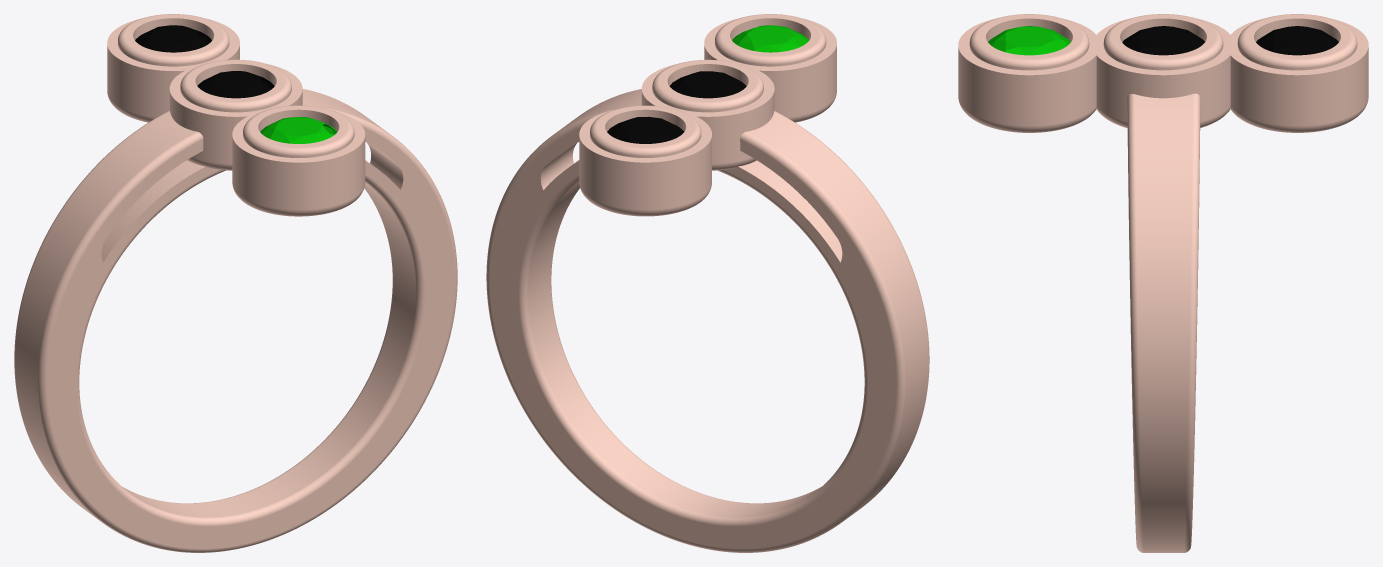
Rendered from ring.glb.
3 renders of one model, left to right at view 1: azimuth 30°, elevation 25°; view 2: azimuth 150°, elevation 25°; view 3: azimuth 270°, elevation 25°, orthographic. The views are drawn at different scales.
Visible parts, largest first — view 1: 오피스코어반지(2AA7DB9A-4CB2-4F30-BDC1-481C30C1CEF7), 오피스코어반지(EE124A84-739E-4F3C-801E-71440F5682EC), 오피스코어반지(6A5E830C-42E2-458B-BDE9-2AE1DE75D6CA), 오피스코어반지(F76FBCC6-D6EB-48FC-8B54-50B748D439D3), 오피스코어반지(9B46DE46-B141-44AE-886B-247A532996FB), 오피스코어반지(665029A8-155E-4D0A-90D2-BA9750BD5ACD), 오피스코어반지(1B3C987A-93AA-44F1-8126-E3DEDE83E04D), 화이트스톤(0B7339AB-1098-4E23-9975-40E428453A56), 화이트스톤(1F1E1353-6E0F-4F7B-8FC4-DBA0D6A761D5), 레이어 02(67A01265-0AE2-4550-BDA8-7D3291A012AF), 오피스코어반지(43A235EA-FD79-4244-A20D-EDCFB2B63874); view 2: 오피스코어반지(2AA7DB9A-4CB2-4F30-BDC1-481C30C1CEF7), 오피스코어반지(6A5E830C-42E2-458B-BDE9-2AE1DE75D6CA), 오피스코어반지(EE124A84-739E-4F3C-801E-71440F5682EC), 오피스코어반지(F76FBCC6-D6EB-48FC-8B54-50B748D439D3), 오피스코어반지(1B3C987A-93AA-44F1-8126-E3DEDE83E04D), 오피스코어반지(9B46DE46-B141-44AE-886B-247A532996FB), 오피스코어반지(665029A8-155E-4D0A-90D2-BA9750BD5ACD), 레이어 02(67A01265-0AE2-4550-BDA8-7D3291A012AF), 화이트스톤(1F1E1353-6E0F-4F7B-8FC4-DBA0D6A761D5), 화이트스톤(0B7339AB-1098-4E23-9975-40E428453A56), 오피스코어반지(27804FED-47F8-4C6D-BA63-A63F5332597B); view 3: 오피스코어반지(2AA7DB9A-4CB2-4F30-BDC1-481C30C1CEF7), 오피스코어반지(EE124A84-739E-4F3C-801E-71440F5682EC), 오피스코어반지(6A5E830C-42E2-458B-BDE9-2AE1DE75D6CA), 오피스코어반지(F76FBCC6-D6EB-48FC-8B54-50B748D439D3), 오피스코어반지(665029A8-155E-4D0A-90D2-BA9750BD5ACD), 오피스코어반지(9B46DE46-B141-44AE-886B-247A532996FB), 오피스코어반지(1B3C987A-93AA-44F1-8126-E3DEDE83E04D), 화이트스톤(1F1E1353-6E0F-4F7B-8FC4-DBA0D6A761D5), 화이트스톤(0B7339AB-1098-4E23-9975-40E428453A56), 레이어 02(67A01265-0AE2-4550-BDA8-7D3291A012AF), 오피스코어반지(27804FED-47F8-4C6D-BA63-A63F5332597B), 오피스코어반지(43A235EA-FD79-4244-A20D-EDCFB2B63874).
Part boxes in pixels (x1=…): 오피스코어반지(2AA7DB9A-4CB2-4F30-BDC1-481C30C1CEF7): x1=14, y1=89, x2=457, y2=552; 오피스코어반지(EE124A84-739E-4F3C-801E-71440F5682EC): x1=232, y1=110, x2=365, y2=209; 오피스코어반지(6A5E830C-42E2-458B-BDE9-2AE1DE75D6CA): x1=107, y1=18, x2=239, y2=117; 오피스코어반지(F76FBCC6-D6EB-48FC-8B54-50B748D439D3): x1=169, y1=64, x2=302, y2=163; 오피스코어반지(9B46DE46-B141-44AE-886B-247A532996FB): x1=243, y1=105, x2=354, y2=157; 오피스코어반지(665029A8-155E-4D0A-90D2-BA9750BD5ACD): x1=118, y1=14, x2=229, y2=66; 오피스코어반지(1B3C987A-93AA-44F1-8126-E3DEDE83E04D): x1=180, y1=59, x2=291, y2=112; 화이트스톤(0B7339AB-1098-4E23-9975-40E428453A56): x1=197, y1=71, x2=274, y2=98; 화이트스톤(1F1E1353-6E0F-4F7B-8FC4-DBA0D6A761D5): x1=135, y1=25, x2=211, y2=52; 레이어 02(67A01265-0AE2-4550-BDA8-7D3291A012AF): x1=260, y1=117, x2=336, y2=143; 오피스코어반지(43A235EA-FD79-4244-A20D-EDCFB2B63874): x1=232, y1=185, x2=364, y2=216; 오피스코어반지(2AA7DB9A-4CB2-4F30-BDC1-481C30C1CEF7): x1=486, y1=89, x2=929, y2=552; 오피스코어반지(6A5E830C-42E2-458B-BDE9-2AE1DE75D6CA): x1=579, y1=110, x2=711, y2=209; 오피스코어반지(EE124A84-739E-4F3C-801E-71440F5682EC): x1=704, y1=18, x2=836, y2=117; 오피스코어반지(F76FBCC6-D6EB-48FC-8B54-50B748D439D3): x1=641, y1=64, x2=774, y2=163; 오피스코어반지(1B3C987A-93AA-44F1-8126-E3DEDE83E04D): x1=652, y1=59, x2=763, y2=112; 오피스코어반지(9B46DE46-B141-44AE-886B-247A532996FB): x1=715, y1=14, x2=826, y2=66; 오피스코어반지(665029A8-155E-4D0A-90D2-BA9750BD5ACD): x1=590, y1=105, x2=701, y2=157; 레이어 02(67A01265-0AE2-4550-BDA8-7D3291A012AF): x1=732, y1=25, x2=809, y2=52; 화이트스톤(1F1E1353-6E0F-4F7B-8FC4-DBA0D6A761D5): x1=607, y1=116, x2=684, y2=143; 화이트스톤(0B7339AB-1098-4E23-9975-40E428453A56): x1=669, y1=71, x2=746, y2=98; 오피스코어반지(27804FED-47F8-4C6D-BA63-A63F5332597B): x1=579, y1=184, x2=711, y2=216; 오피스코어반지(2AA7DB9A-4CB2-4F30-BDC1-481C30C1CEF7): x1=1127, y1=93, x2=1200, y2=552; 오피스코어반지(EE124A84-739E-4F3C-801E-71440F5682EC): x1=958, y1=18, x2=1100, y2=125; 오피스코어반지(6A5E830C-42E2-458B-BDE9-2AE1DE75D6CA): x1=1226, y1=18, x2=1368, y2=125; 오피스코어반지(F76FBCC6-D6EB-48FC-8B54-50B748D439D3): x1=1092, y1=18, x2=1234, y2=121; 오피스코어반지(665029A8-155E-4D0A-90D2-BA9750BD5ACD): x1=1237, y1=14, x2=1357, y2=70; 오피스코어반지(9B46DE46-B141-44AE-886B-247A532996FB): x1=969, y1=14, x2=1089, y2=70; 오피스코어반지(1B3C987A-93AA-44F1-8126-E3DEDE83E04D): x1=1103, y1=14, x2=1223, y2=70; 화이트스톤(1F1E1353-6E0F-4F7B-8FC4-DBA0D6A761D5): x1=1256, y1=26, x2=1338, y2=55; 화이트스톤(0B7339AB-1098-4E23-9975-40E428453A56): x1=1122, y1=26, x2=1204, y2=55; 레이어 02(67A01265-0AE2-4550-BDA8-7D3291A012AF): x1=988, y1=26, x2=1070, y2=55; 오피스코어반지(27804FED-47F8-4C6D-BA63-A63F5332597B): x1=1230, y1=98, x2=1368, y2=132; 오피스코어반지(43A235EA-FD79-4244-A20D-EDCFB2B63874): x1=958, y1=98, x2=1096, y2=132.
Size of the model in its own units: 0.0211 by 0.0221 by 0.0167.
